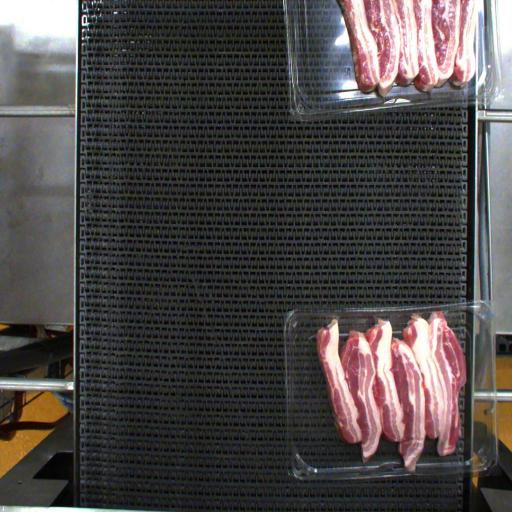packaging-error: (432, 302, 458, 324), (320, 307, 346, 328), (402, 464, 422, 486)
